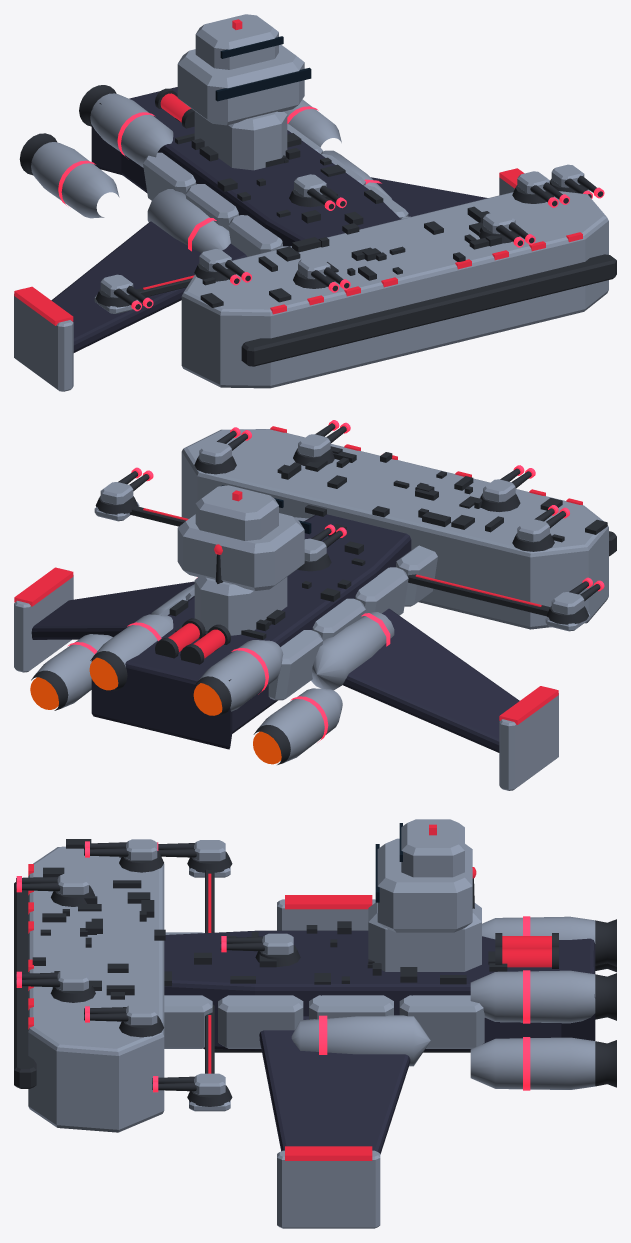
The model's file is ship_harrow.glb.
The picture shows the model from 3 angles, top to bottom: view 1: azimuth 30°, elevation 25°; view 2: azimuth 150°, elevation 25°; view 3: azimuth 270°, elevation 25°; orthographic projection. The views are drawn at different scales.
Visible parts, largest first — view 1: secondary, trim, primary, glow, accent, glass; view 2: secondary, primary, trim, glow, engine, accent; view 3: secondary, primary, trim, glow, accent.
Boxes of the visible parts, left/top/right/bottom form: secondary: left=14, top=14, right=608, bottom=391; trim: left=19, top=85, right=616, bottom=366; primary: left=51, top=87, right=487, bottom=352; glow: left=14, top=19, right=582, bottom=325; accent: left=58, top=106, right=604, bottom=311; glass: left=215, top=36, right=311, bottom=101; secondary: left=14, top=429, right=608, bottom=790; primary: left=31, top=514, right=519, bottom=752; trim: left=31, top=423, right=616, bottom=764; glow: left=14, top=426, right=582, bottom=724; engine: left=30, top=657, right=281, bottom=764; accent: left=67, top=420, right=604, bottom=741; secondary: left=28, top=819, right=595, bottom=1228; primary: left=164, top=930, right=595, bottom=1154; trim: left=14, top=839, right=616, bottom=1106; glow: left=28, top=824, right=551, bottom=1160; accent: left=16, top=841, right=530, bottom=1092.
Size of the model in its own units: 6.97 by 3.4 by 6.8.
